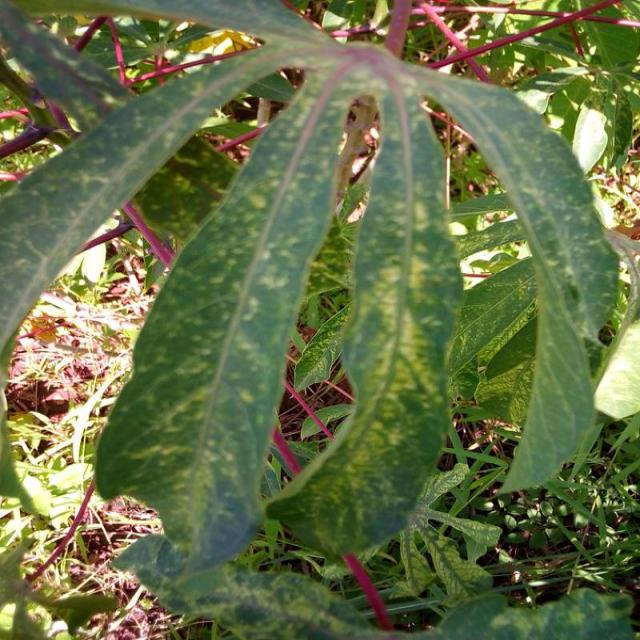cassava leaf: (3, 1, 634, 630), (94, 44, 360, 581), (266, 66, 464, 561)
